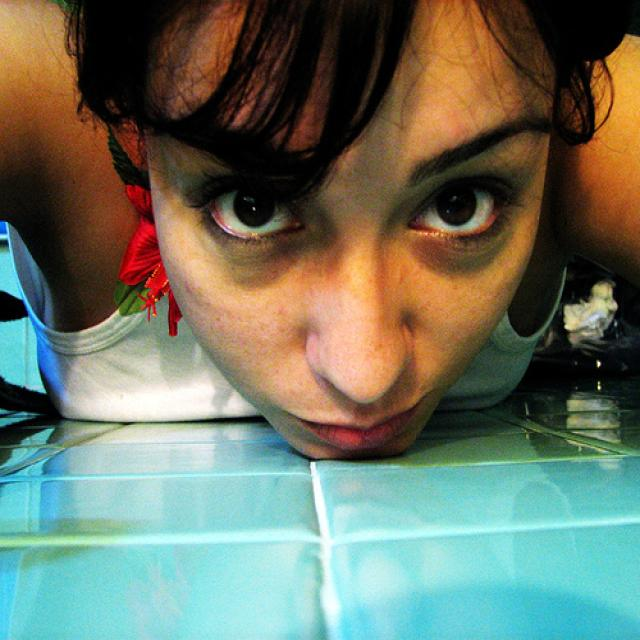person: (1, 1, 640, 463)
